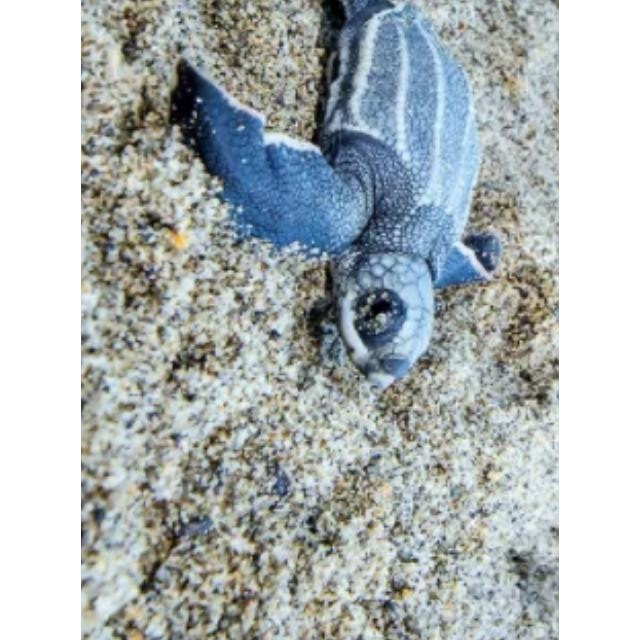turtle: (165, 2, 502, 390)
